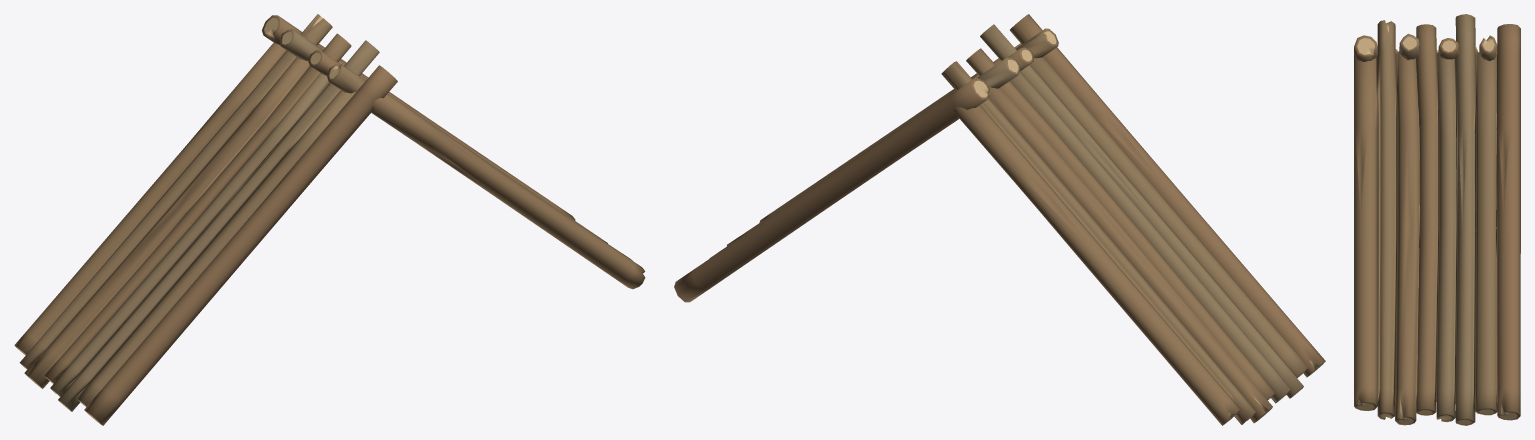
Rendered from rpgpp_ag_roof_01a_9x4x3.fbx.
3 views of the same model, side by side, from view 1: azimuth 30°, elevation 25°; view 2: azimuth 150°, elevation 25°; view 3: azimuth 270°, elevation 25° (orthographic). The views are drawn at different scales.
Parts seen in each view (by area): view 1: rpgpp_ag_roof_01a_9x4x3; view 2: rpgpp_ag_roof_01a_9x4x3; view 3: rpgpp_ag_roof_01a_9x4x3.
Boxes of the visible parts, x1,y1,x2,y2 form: rpgpp_ag_roof_01a_9x4x3: (14, 14, 645, 425); rpgpp_ag_roof_01a_9x4x3: (674, 14, 1325, 425); rpgpp_ag_roof_01a_9x4x3: (1354, 14, 1520, 425).
Size of the model in its own units: 11.05 by 5.52 by 3.
